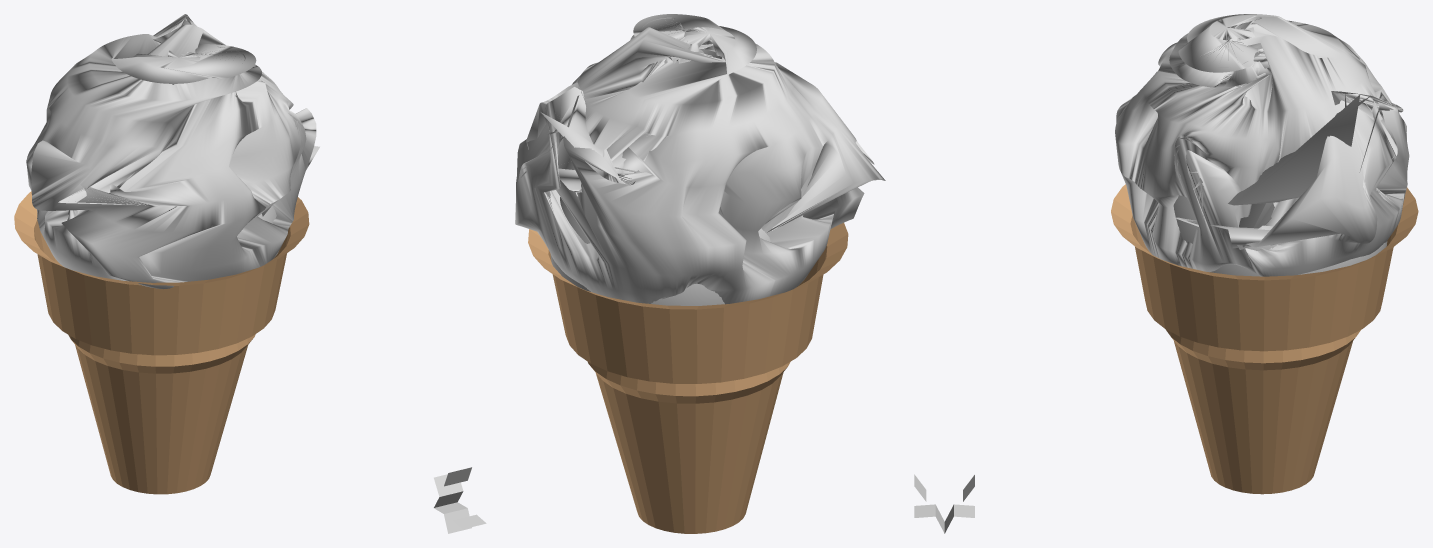
3 views of the same model, side by side, from view 1: azimuth 30°, elevation 25°; view 2: azimuth 150°, elevation 25°; view 3: azimuth 270°, elevation 25° (orthographic). The views are drawn at different scales.
Parts seen in each view (by area): view 1: Sphere.001, Cylinder, Circle; view 2: Sphere.001, Cylinder, Sphere; view 3: Sphere.001, Cylinder, Sphere, Circle.
Part boxes in pixels (x1=…): Sphere.001: x1=26, y1=14, x2=319, y2=289; Cylinder: x1=14, y1=191, x2=309, y2=494; Circle: x1=434, y1=467, x2=486, y2=533; Sphere.001: x1=515, y1=14, x2=885, y2=304; Cylinder: x1=528, y1=222, x2=848, y2=533; Sphere: x1=550, y1=197, x2=770, y2=305; Sphere.001: x1=1115, y1=14, x2=1409, y2=276; Cylinder: x1=1111, y1=184, x2=1418, y2=494; Sphere: x1=1173, y1=195, x2=1387, y2=276; Circle: x1=914, y1=474, x2=974, y2=533.
Bounding box in the file's own units: 3.76 × 5.04 × 5.06.
